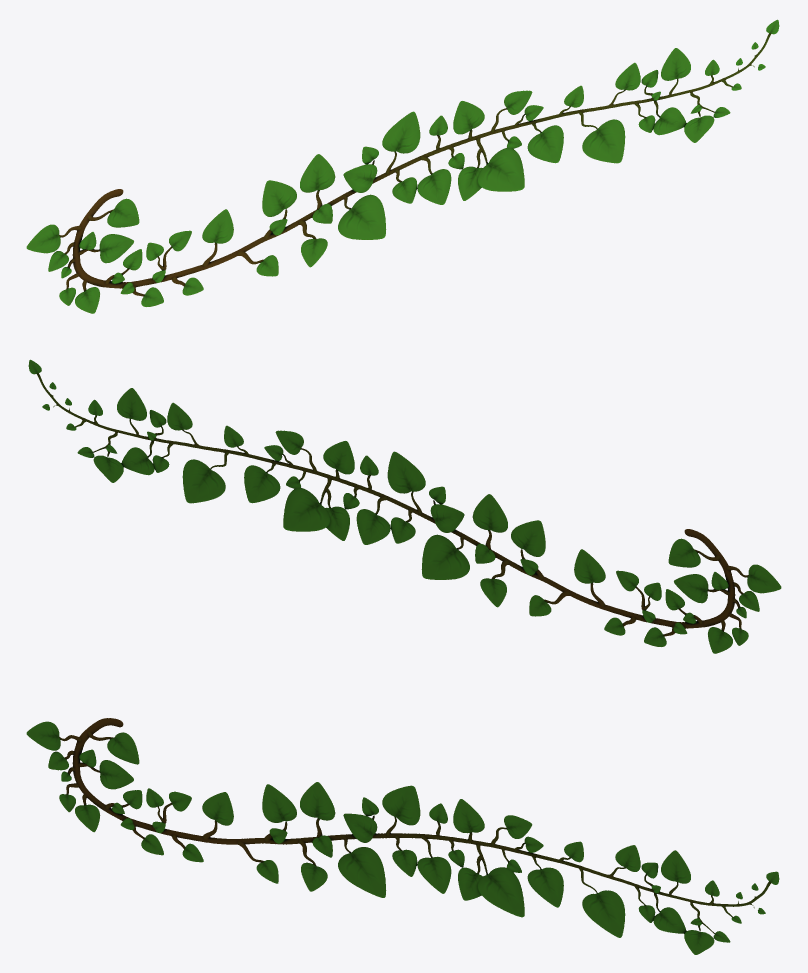
File: vine4.fbx
3 views of the same model, one above another, from view 1: azimuth 30°, elevation 25°; view 2: azimuth 150°, elevation 25°; view 3: azimuth 330°, elevation 25° (orthographic).
Parts seen in each view (by area): view 1: vines.004; view 2: vines.004; view 3: vines.004.
Boxes of the visible parts, left/top/right/bottom form: vines.004: left=26, top=19, right=779, bottom=313; vines.004: left=28, top=359, right=781, bottom=653; vines.004: left=26, top=718, right=779, bottom=954.
Size of the model in its own units: 99.09 by 17.36 by 1.31e-06.
1 material, 1 textured.
